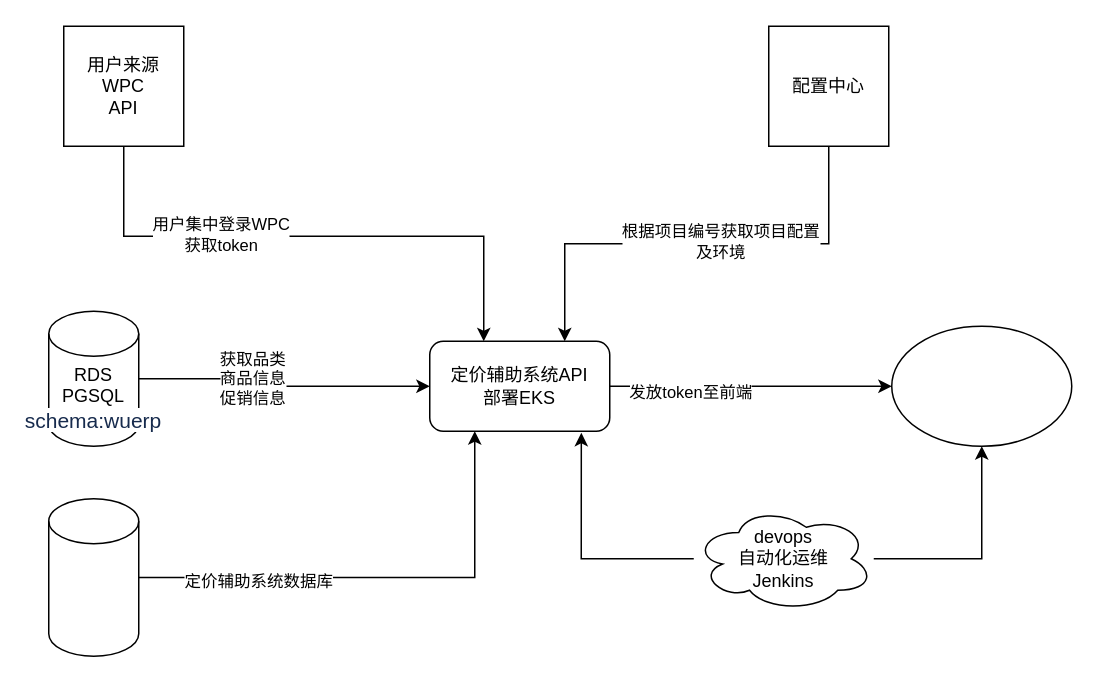
This 1098x683 diagram has some shape labels left out. Each missing label, with the centre of its shape:
"RDS PGSQL schema:SP" goes at pixel 93 576.
"前端Web界面" goes at pixel 981 385.
